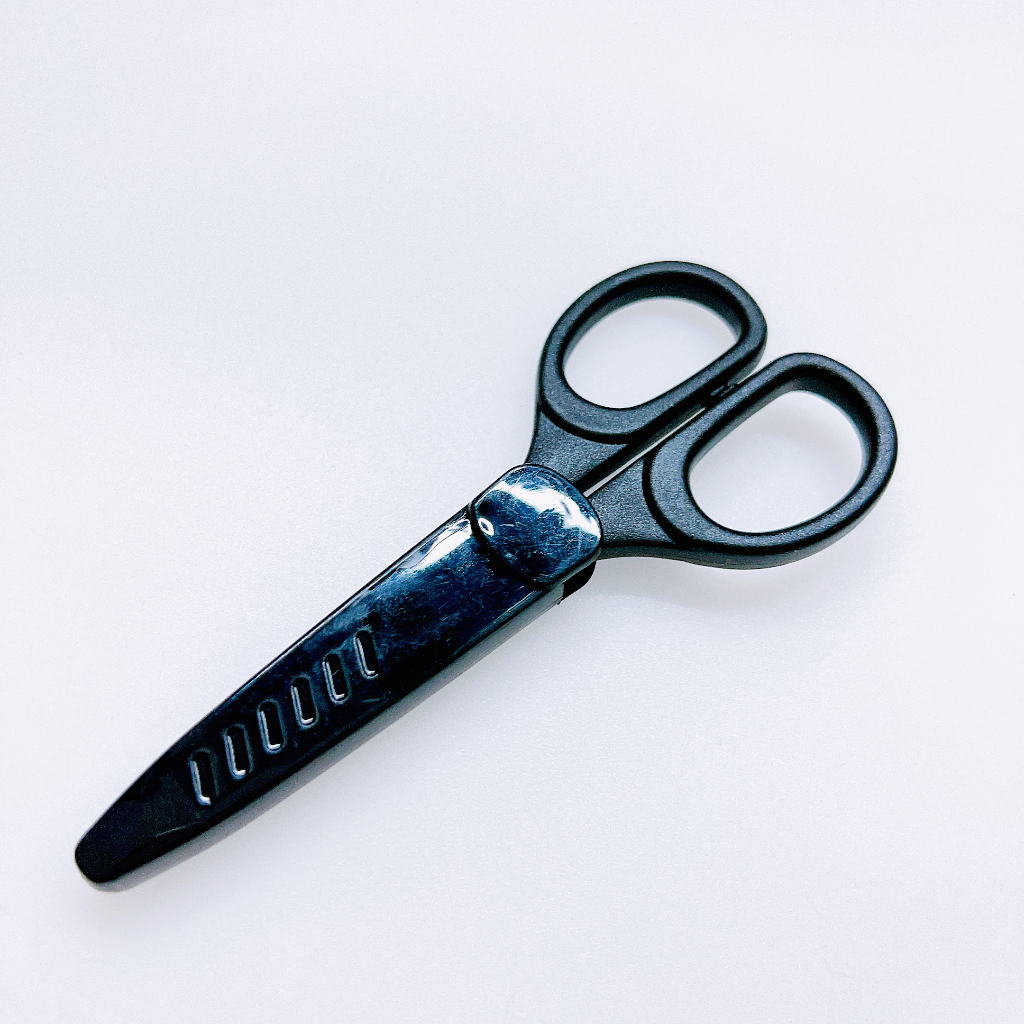scissors: (58, 255, 907, 906)
